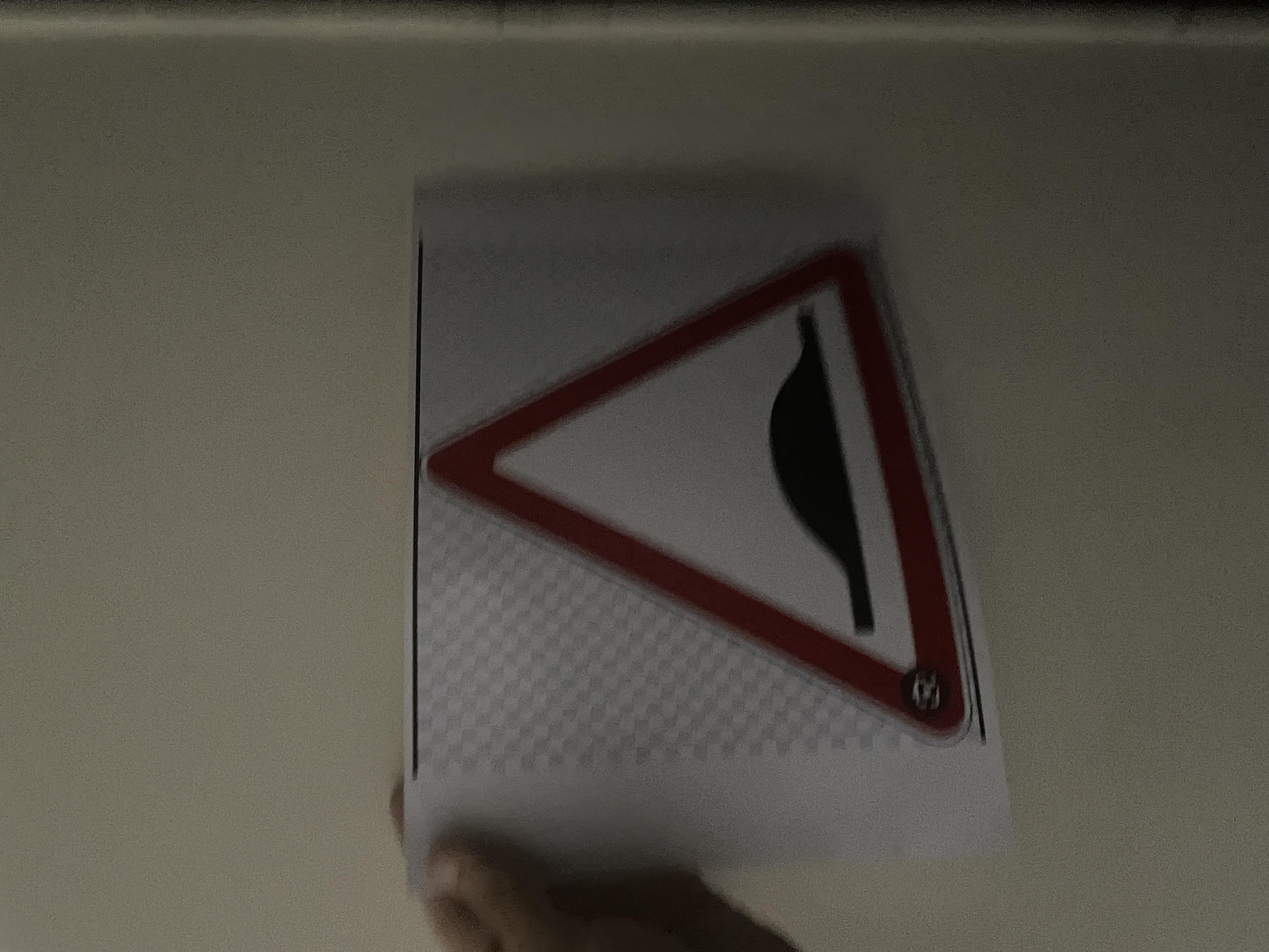Hump: (264, 317, 941, 730)
